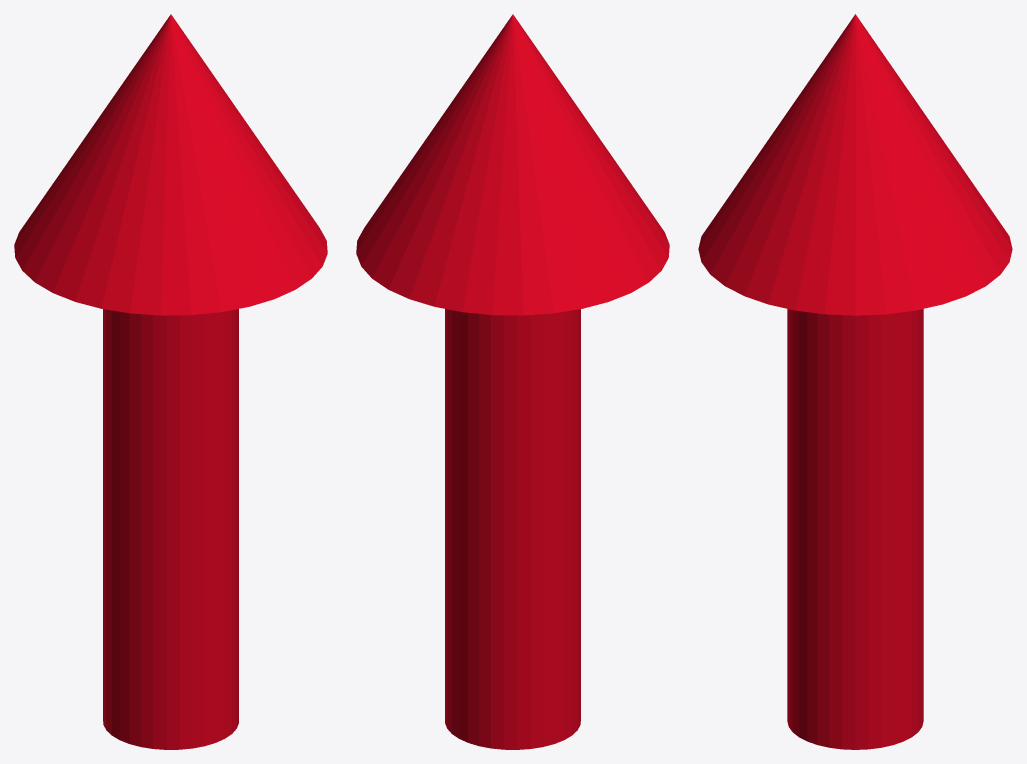
The model's file is Pfeil.fbx.
3 views of the same model, side by side, from view 1: azimuth 30°, elevation 25°; view 2: azimuth 150°, elevation 25°; view 3: azimuth 270°, elevation 25° (orthographic).
Parts seen in each view (by area): view 1: Cone; view 2: Cone; view 3: Cone.
Boxes of the visible parts, x1,y1,x2,y2 form: Cone: (14,14,327,749); Cone: (356,14,669,749); Cone: (698,14,1012,749).
Bounding box in the file's own units: 12.08 × 30 × 12.08.
